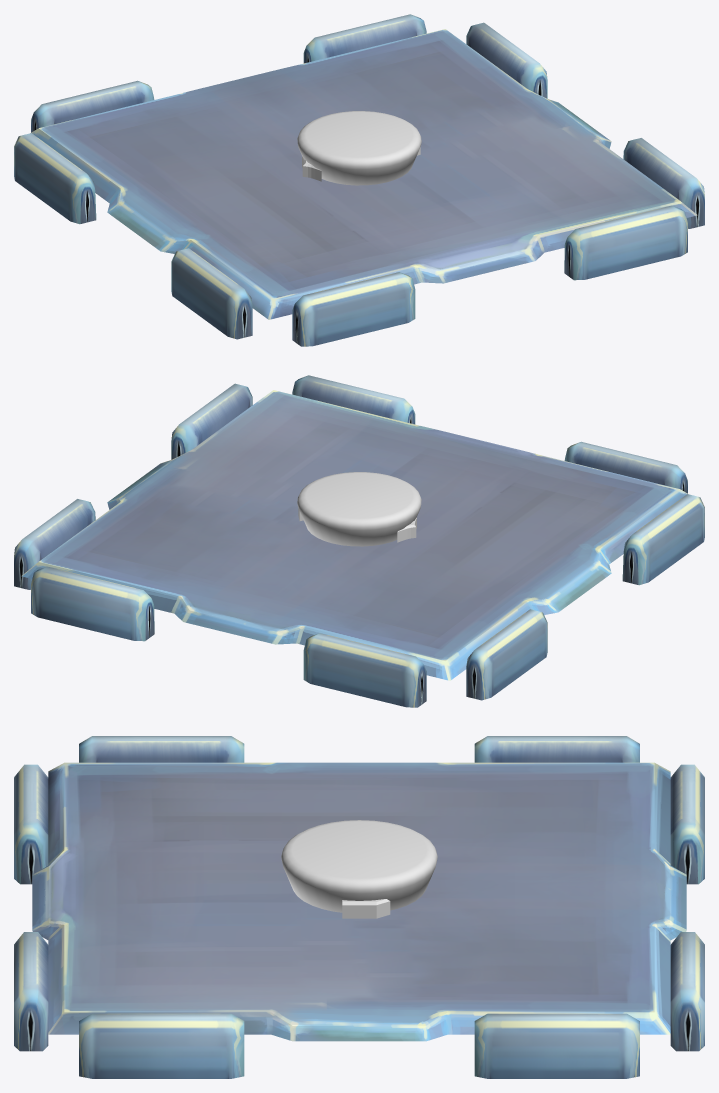
Rendered from Models.fbx.
The picture shows the model from 3 angles, top to bottom: view 1: azimuth 30°, elevation 25°; view 2: azimuth 150°, elevation 25°; view 3: azimuth 270°, elevation 25°; orthographic projection. The views are drawn at different scales.
Parts seen in each view (by area): view 1: Component_PuzzleBackground, Button_HL; view 2: Component_PuzzleBackground, Button_HL; view 3: Component_PuzzleBackground, Button_HL, Line.
Boxes of the visible parts, left/top/right/bottom form: Component_PuzzleBackground: left=14, top=14, right=704, bottom=346; Button_HL: left=297, top=111, right=421, bottom=185; Component_PuzzleBackground: left=14, top=375, right=704, bottom=707; Button_HL: left=297, top=472, right=421, bottom=546; Component_PuzzleBackground: left=14, top=736, right=704, bottom=1078; Button_HL: left=281, top=820, right=437, bottom=912; Line: left=342, top=900, right=376, bottom=918.
Size of the model in its own units: 200 by 26.48 by 200.
2 materials, 1 textured.
